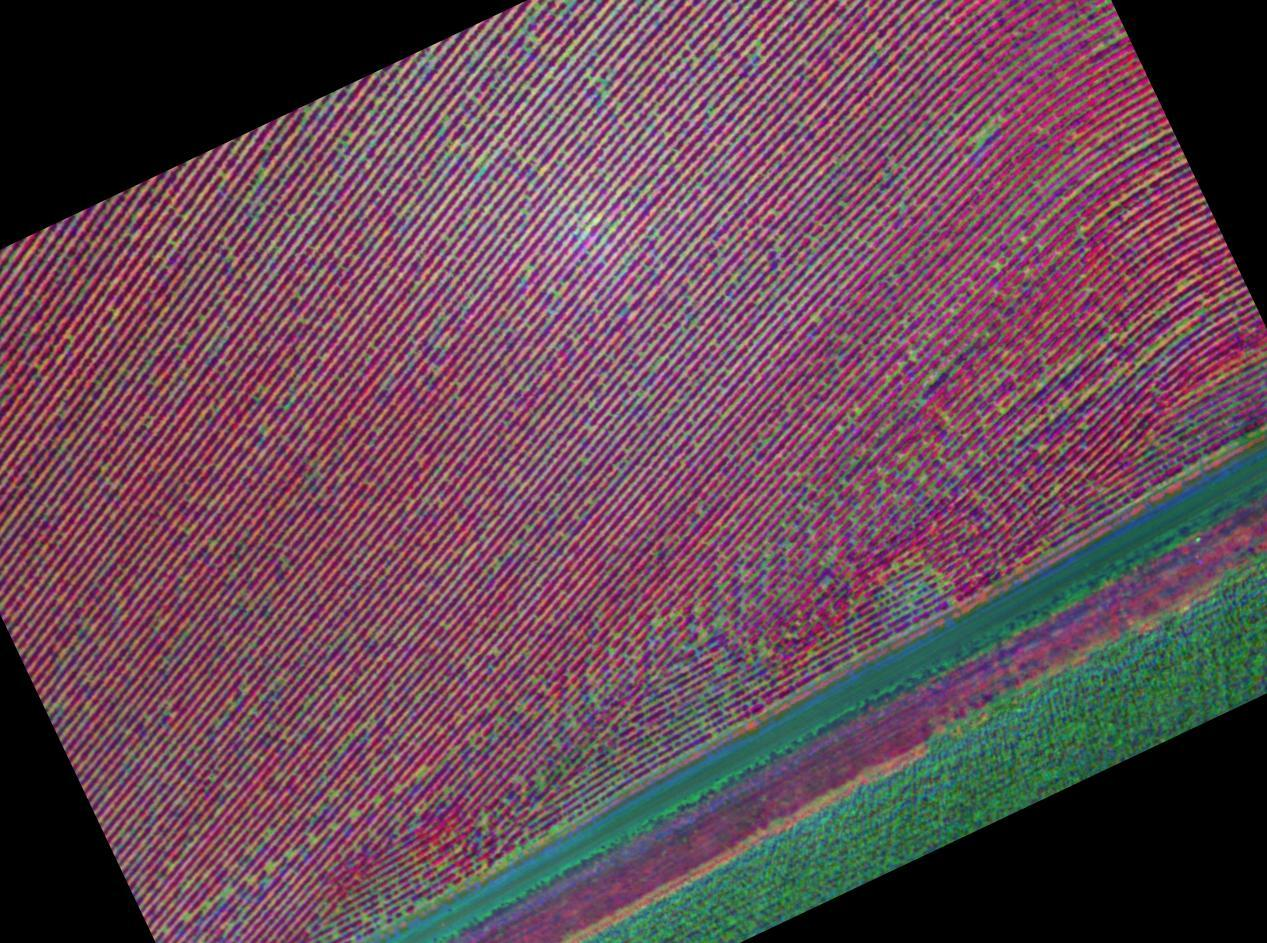dc: (585, 226, 589, 232), (777, 248, 781, 253), (927, 568, 931, 572), (717, 667, 721, 671), (998, 266, 1001, 270), (1002, 409, 1005, 413), (949, 463, 952, 467)
